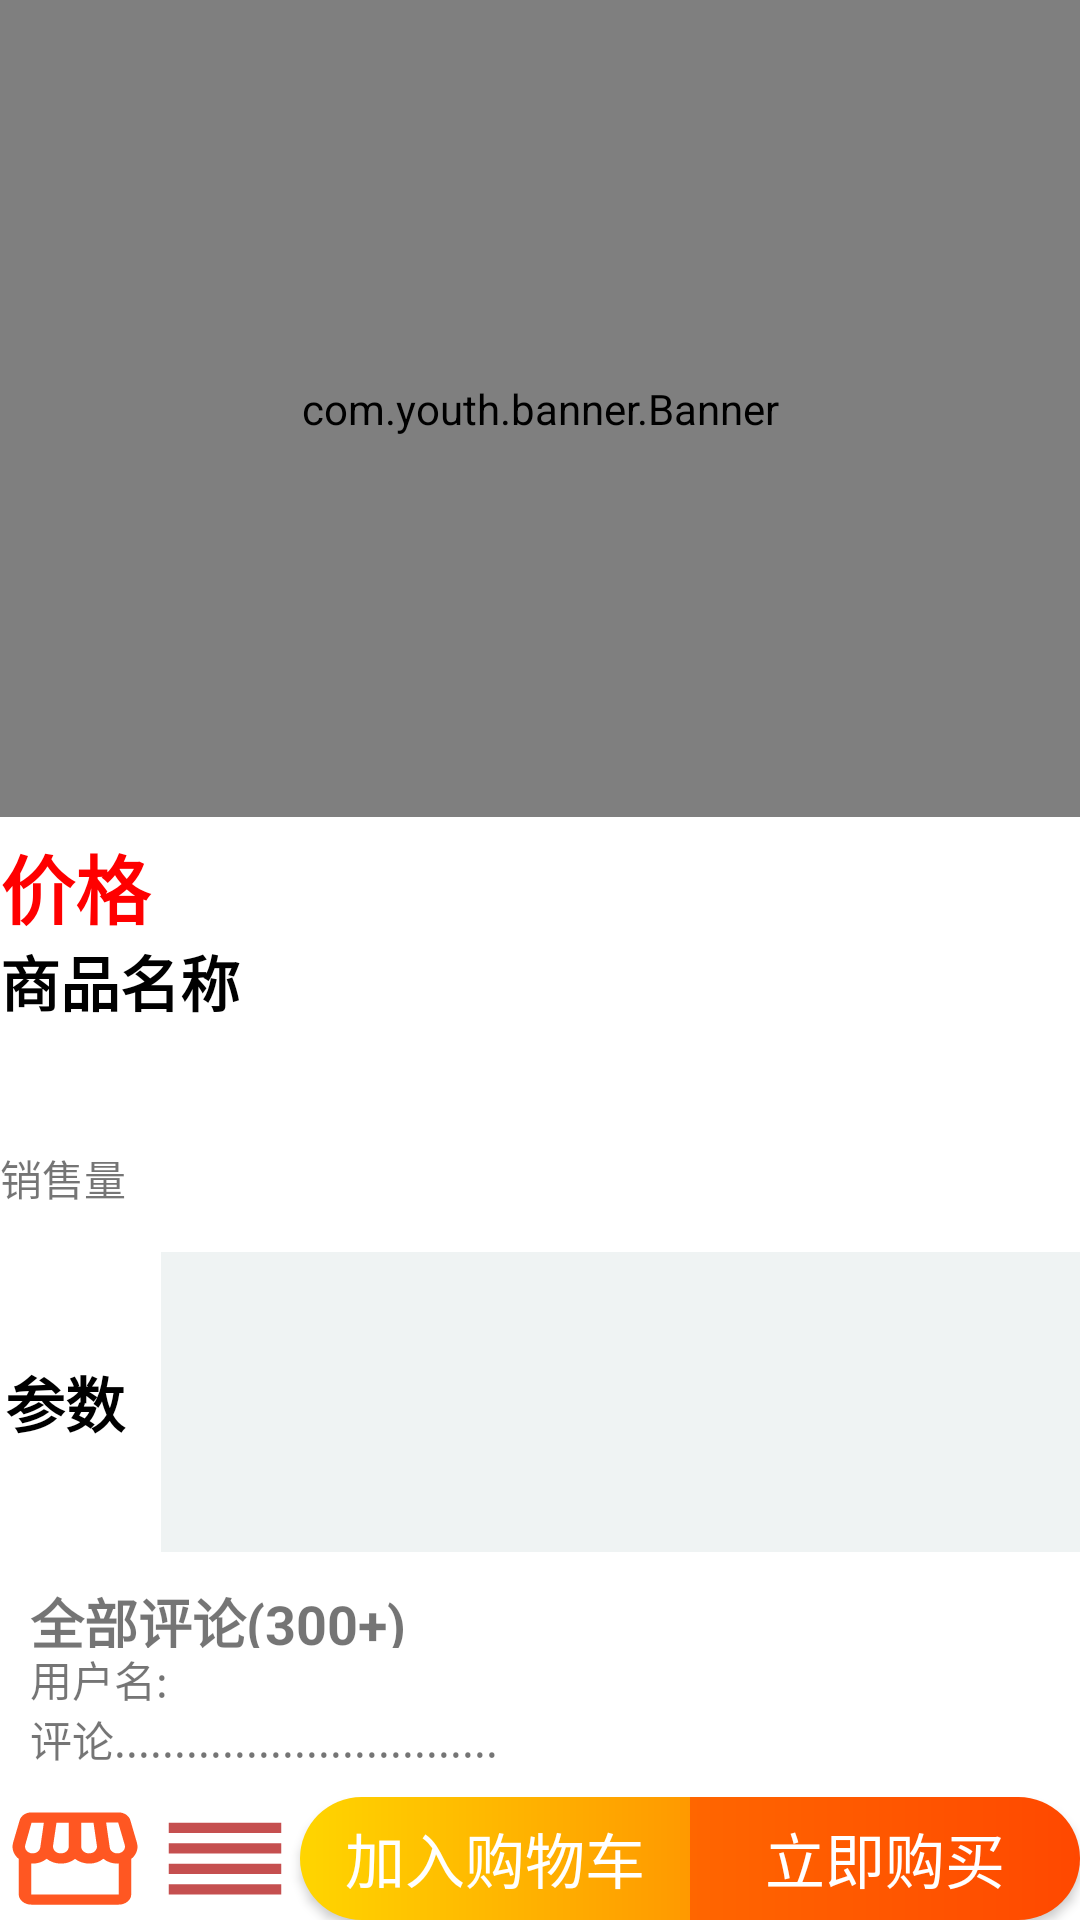

Icon click points for this 1080px×1920px phone screenshot, format (x=x, y=y):
reorder: (x=225, y=1858)
storefront: (x=75, y=1858)
